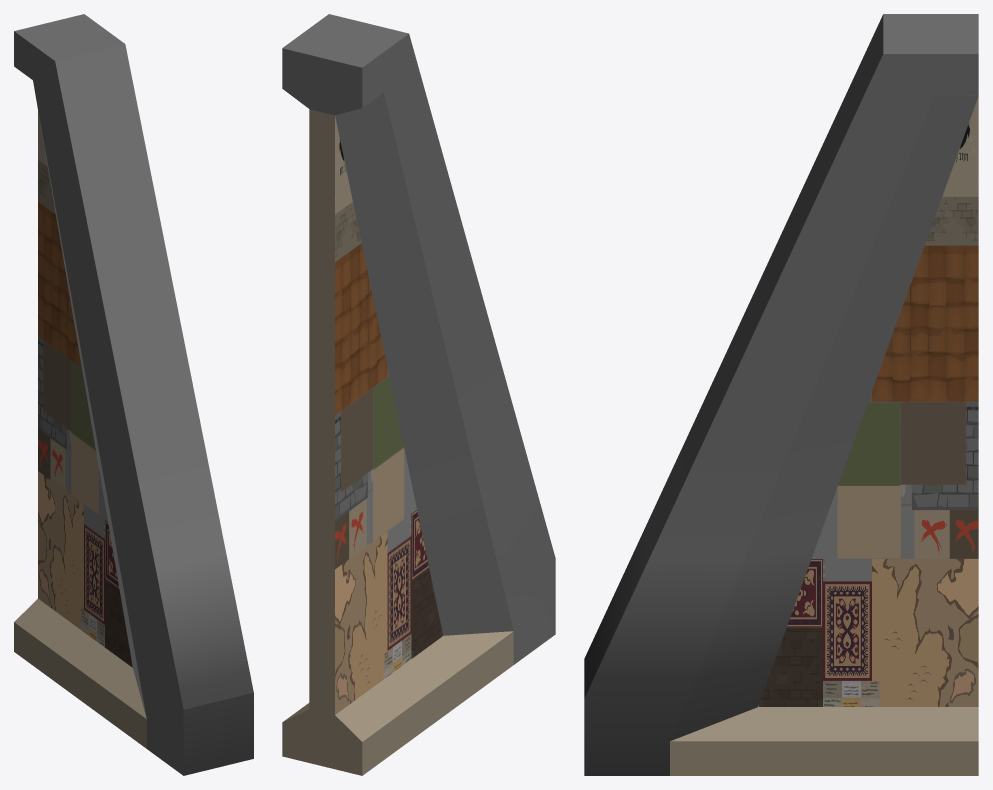
File: kingdom_SM_Bld_Castle_Roof_S_End_01.gltf
3 views of the same model, side by side, from view 1: azimuth 30°, elevation 25°; view 2: azimuth 150°, elevation 25°; view 3: azimuth 270°, elevation 25° (orthographic). The views are drawn at different scales.
Visible parts, largest first — view 1: SM_Bld_Castle_Roof_S_End_01; view 2: SM_Bld_Castle_Roof_S_End_01; view 3: SM_Bld_Castle_Roof_S_End_01.
Boxes of the visible parts, x1,y1,x2,y2 form: SM_Bld_Castle_Roof_S_End_01: (14, 14, 253, 775); SM_Bld_Castle_Roof_S_End_01: (282, 14, 555, 775); SM_Bld_Castle_Roof_S_End_01: (584, 14, 978, 775).
Size of the model in its own units: 0.6109 by 5.16 by 2.55.
Materials: 2 (2 with a texture image).
